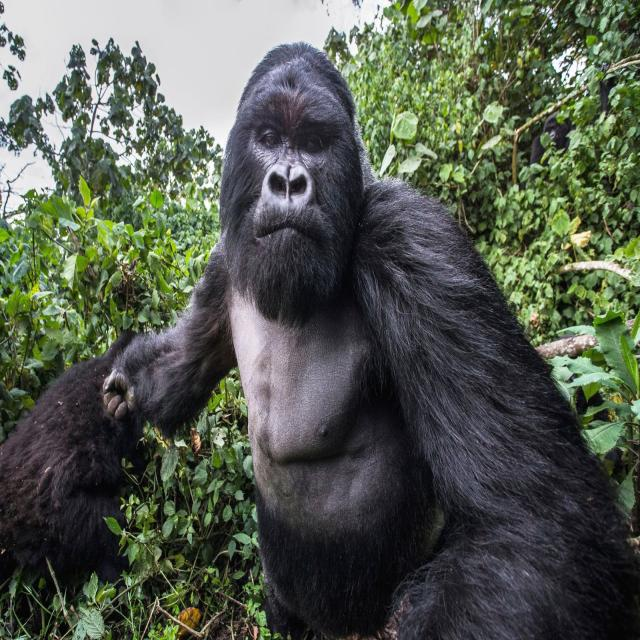Gorilla: (0, 38, 638, 640)
